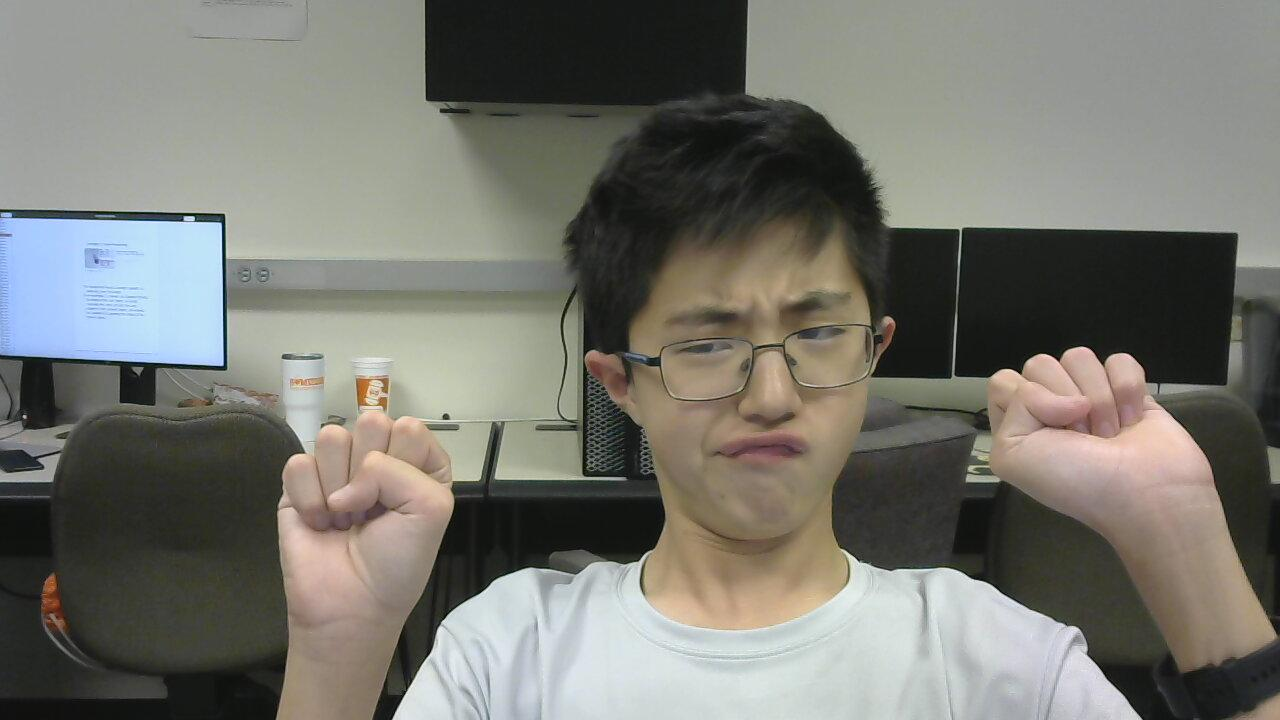fist: (971, 344, 1229, 554), (268, 409, 457, 639)
